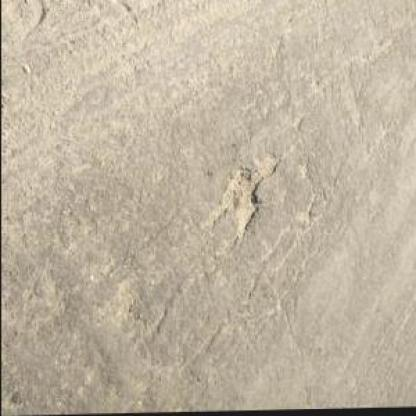pothole: (220, 166, 260, 243), (259, 151, 279, 180)
